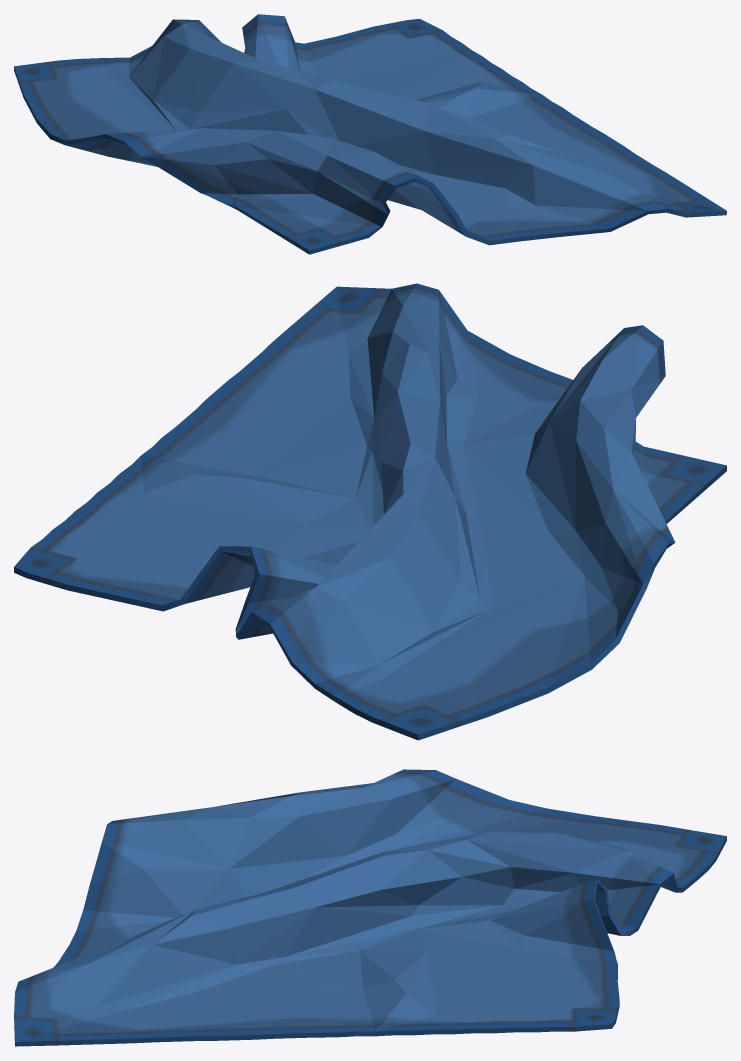
Rendered from SM_Prop_Tarp_Generic_05.fbx.
3 renders of one model, top to bottom at view 1: azimuth 30°, elevation 25°; view 2: azimuth 150°, elevation 25°; view 3: azimuth 270°, elevation 25°, orthographic. The views are drawn at different scales.
Parts seen in each view (by area): view 1: SM_Prop_Tarp_Generic_05; view 2: SM_Prop_Tarp_Generic_05; view 3: SM_Prop_Tarp_Generic_05.
Boxes of the visible parts, bbox=[...] form: SM_Prop_Tarp_Generic_05: bbox=[14, 14, 726, 254]; SM_Prop_Tarp_Generic_05: bbox=[14, 283, 726, 740]; SM_Prop_Tarp_Generic_05: bbox=[14, 769, 726, 1046].
Size of the model in its own units: 371 by 59.94 by 481.
